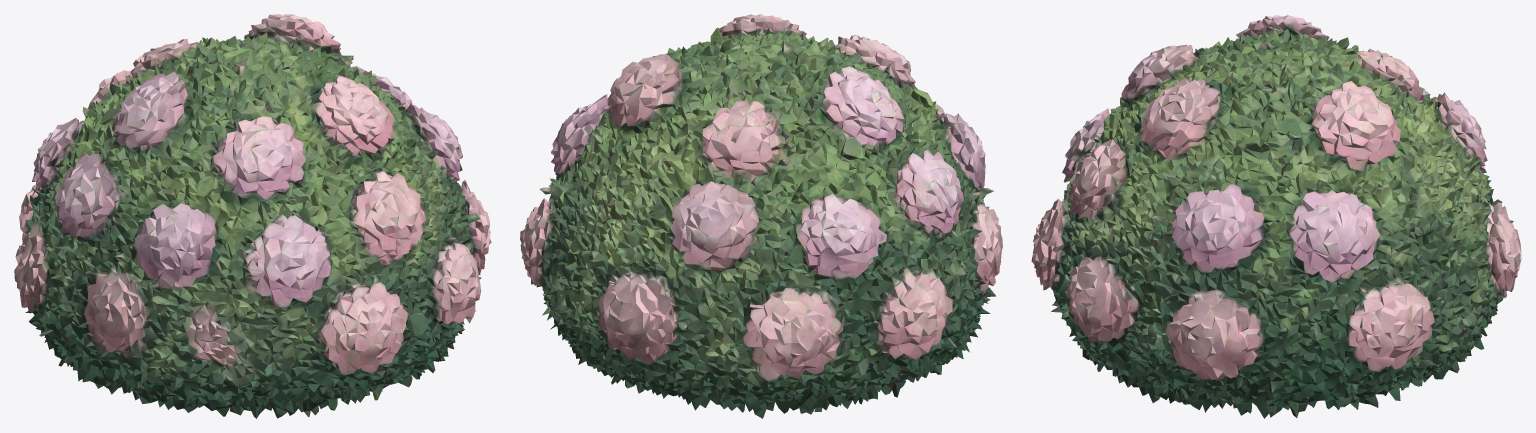
File: bush-hydrangea.glb
The picture shows the model from 3 angles, left to right: view 1: azimuth 30°, elevation 25°; view 2: azimuth 150°, elevation 25°; view 3: azimuth 270°, elevation 25°; orthographic projection.
Size of the model in its own units: 1.85 by 1.24 by 1.9.
1 material, 1 textured.
